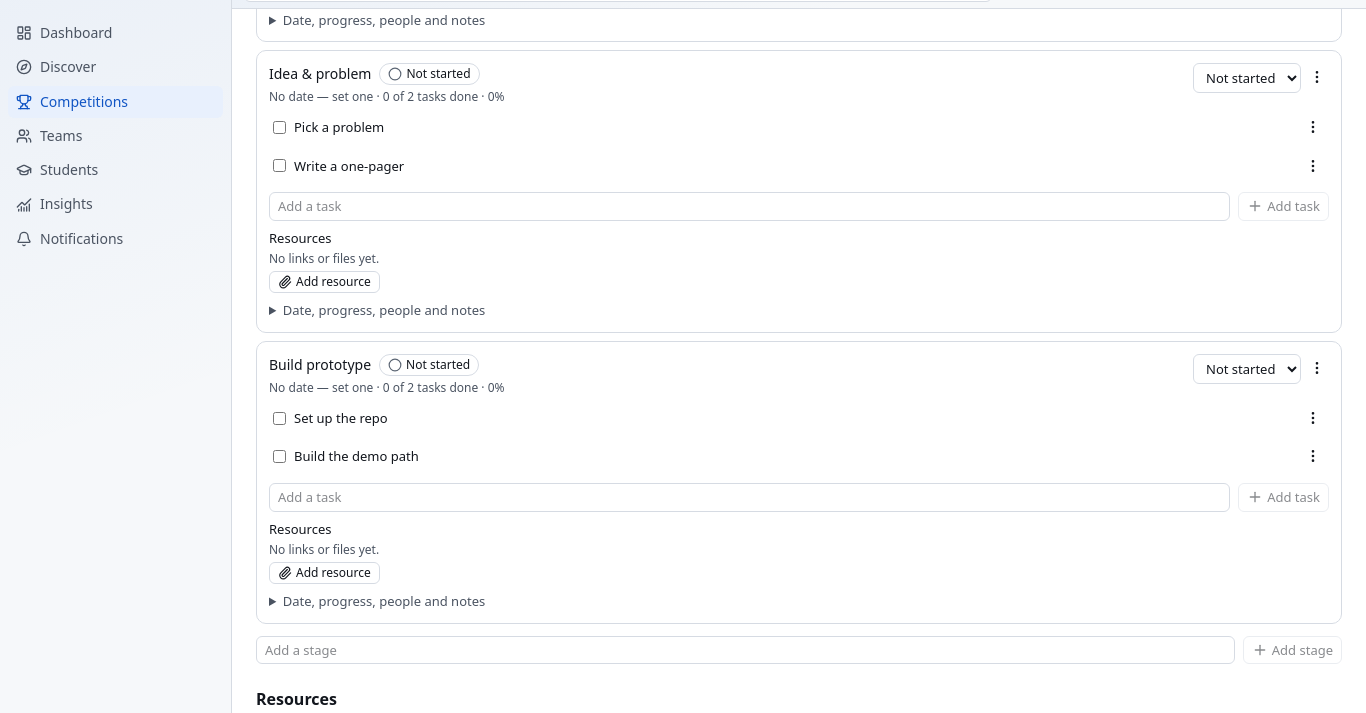
Test: the workflow on the Competition page › Blocked asks for a reason and turns health to Blocked
The image size is (1366, 713).
(page scrolled)
Select "Blocked" in the 2nd dropdown named "Status of Build prototype": (1247, 369) x1=1193 y1=354 x2=1301 y2=384
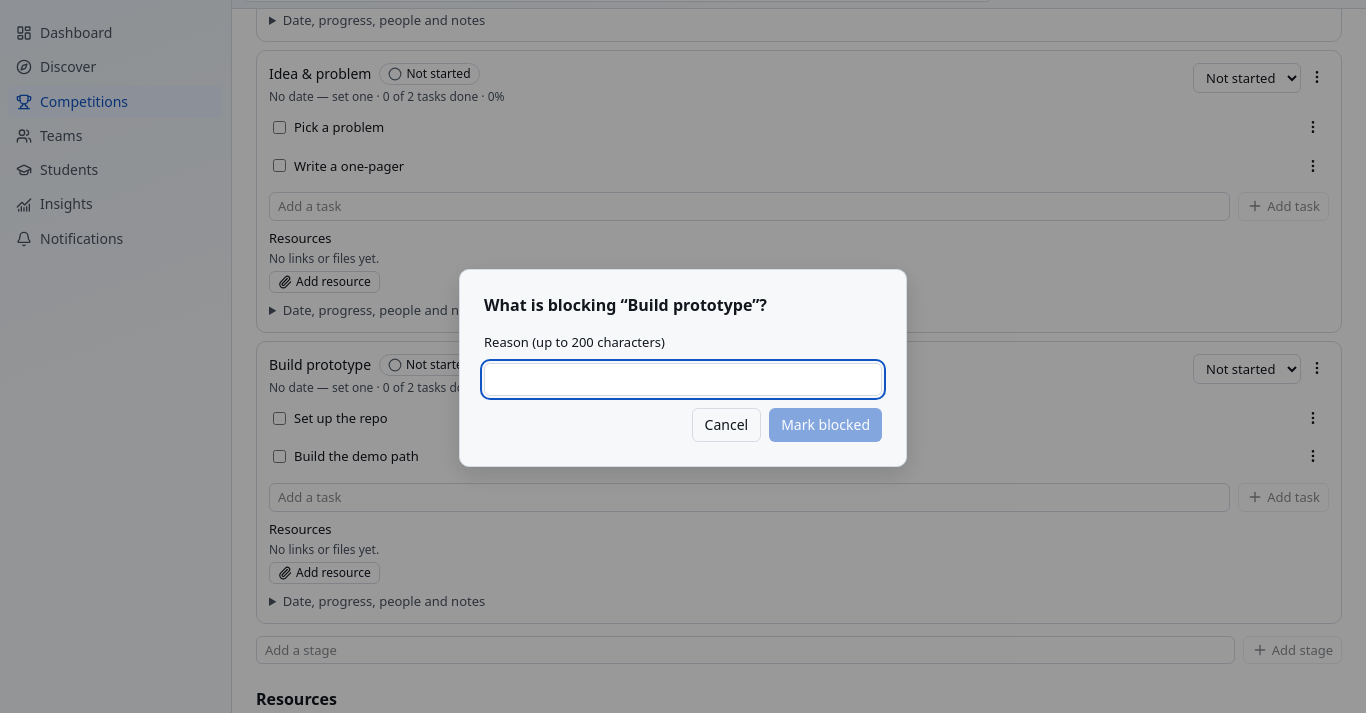
expect the button "Mark blocked" is disabled: met, box x1=769 y1=408 x2=882 y2=442
In the field labelled "Reason (up to 200 characters)": (683, 380) x1=484 y1=363 x2=882 y2=396, type "Waiting on the GPU quota"
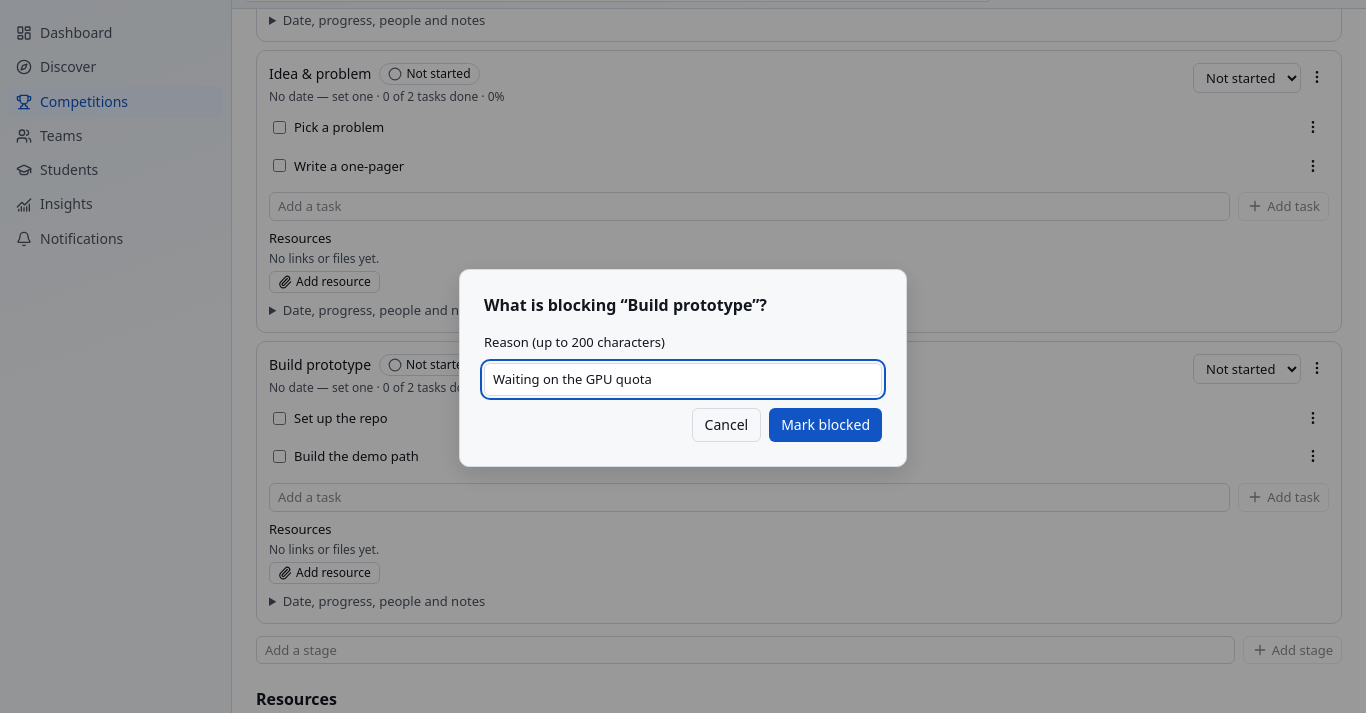
Click the button "Mark blocked": click(826, 425) x1=769 y1=408 x2=882 y2=442
(page scrolled)
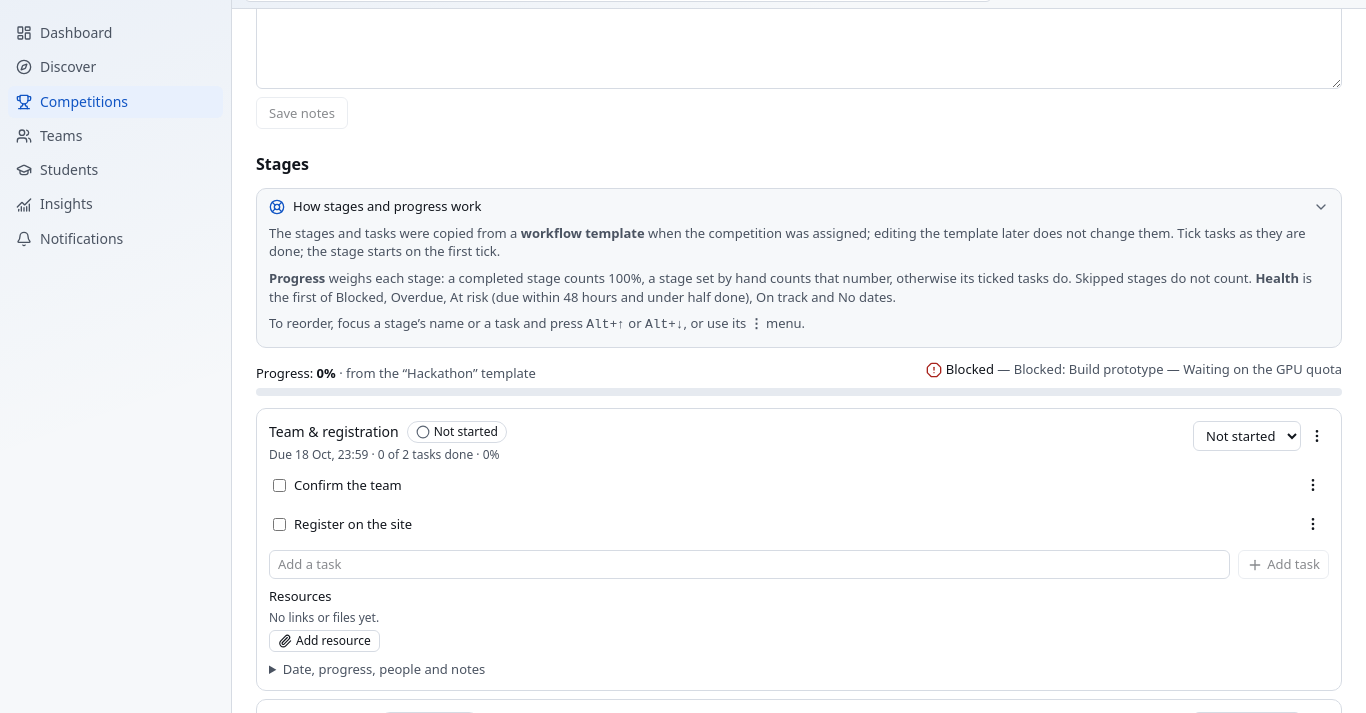
expect the text "— Blocked: Build prototype — Waiting on the GPU quota" is shown: met, box x1=994 y1=360 x2=1342 y2=378
